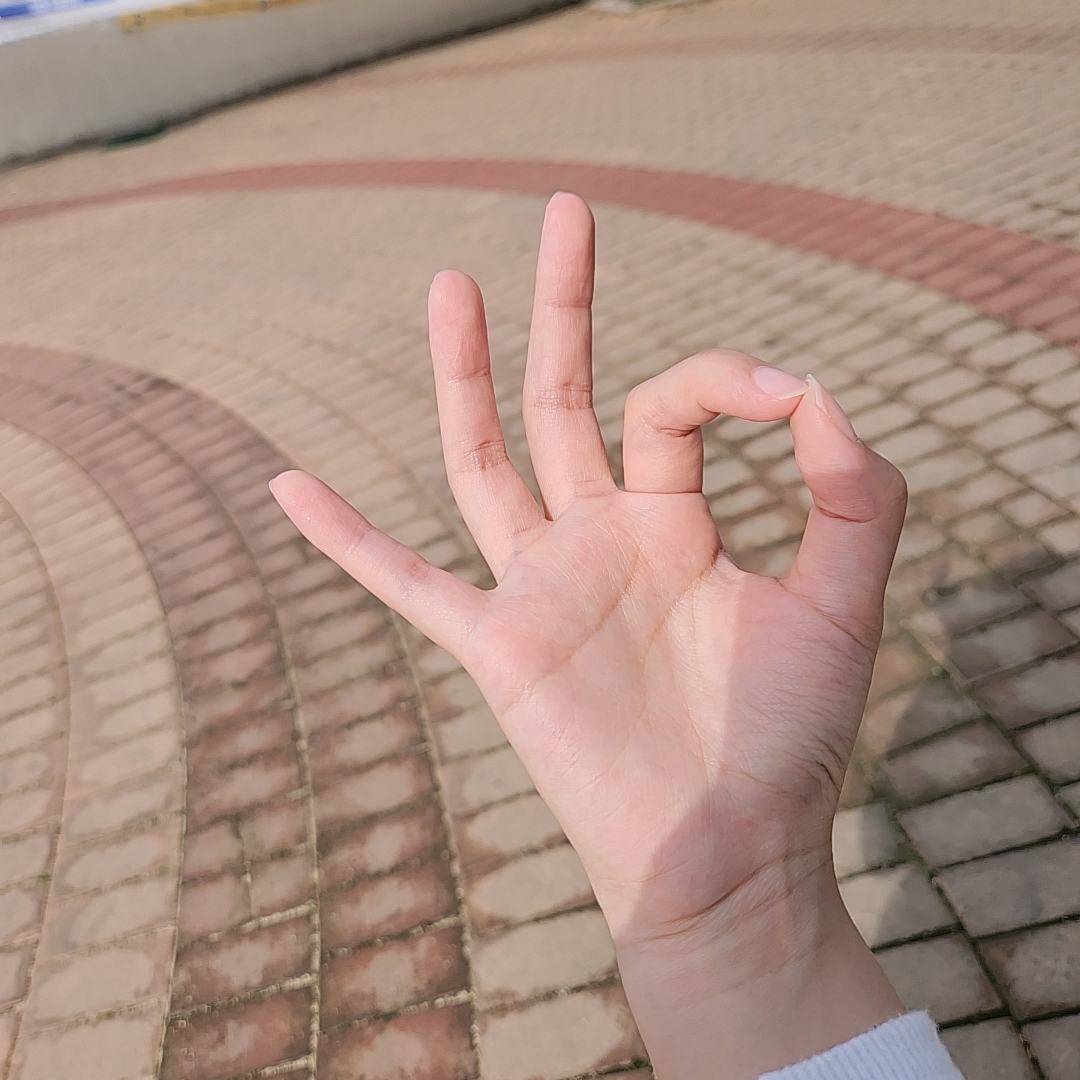see: (267, 191, 908, 865)
